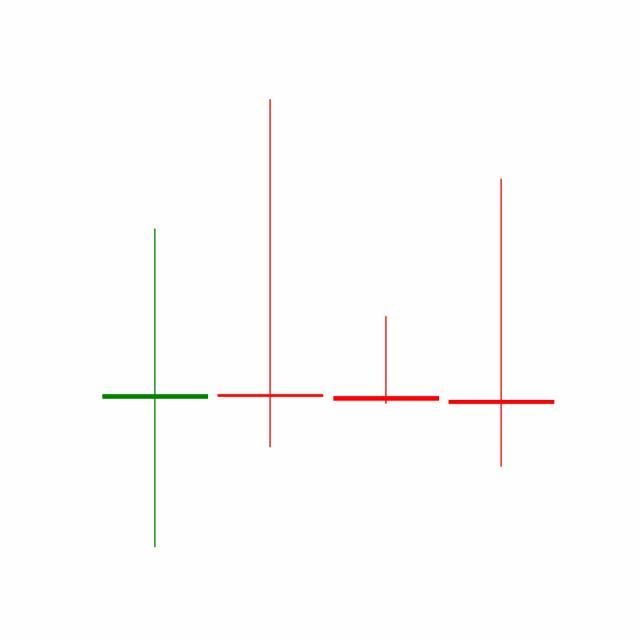Gravestone Doji: (329, 315, 445, 406)
